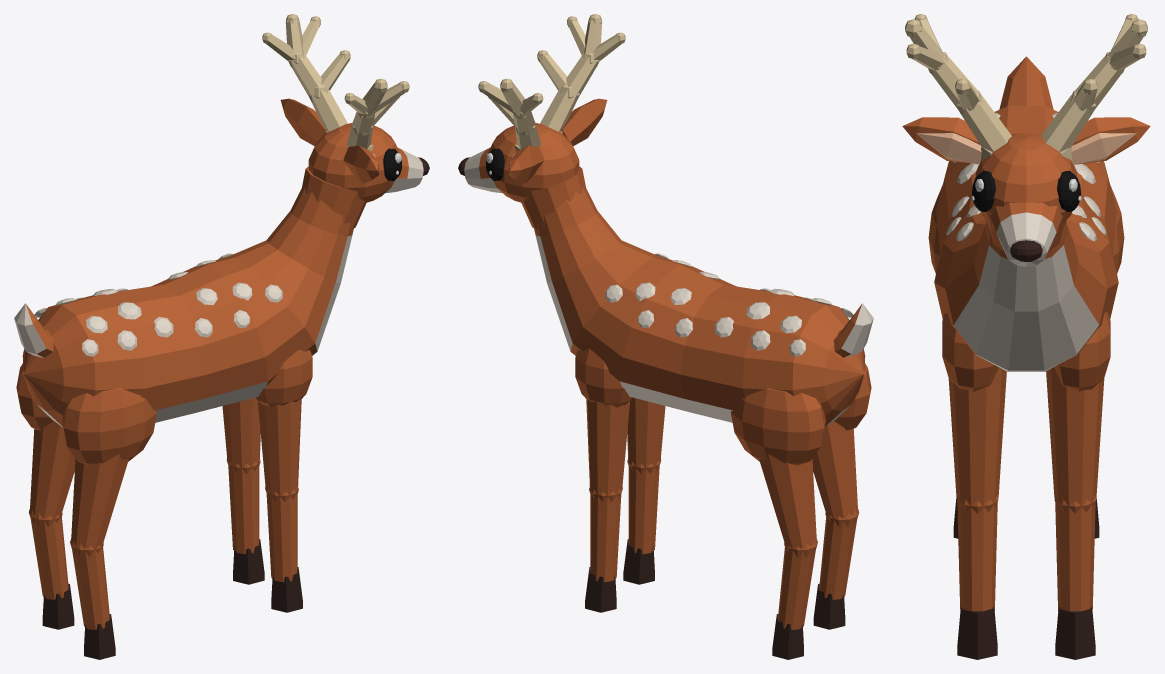
The model's file is deer.glb.
3 views of the same model, side by side, from view 1: azimuth 30°, elevation 25°; view 2: azimuth 150°, elevation 25°; view 3: azimuth 270°, elevation 25° (orthographic). The views are drawn at different scales.
Parts seen in each view (by area): view 1: body, head, leg_br, leg_fr, leg_bl, leg_fl, tail; view 2: body, head, leg_bl, leg_fl, leg_br, leg_fr, tail; view 3: body, head, leg_fl, leg_fr, tail, leg_bl, leg_br.
Part boxes in pixels (x1,y1,x2,y2): body: (22,187,353,427); head: (262,14,429,229); leg_br: (62,388,156,659); leg_fr: (256,349,312,612); leg_bl: (16,363,75,629); leg_fl: (222,397,264,584); tail: (14,303,54,357); body: (534,187,865,427); head: (458,14,625,229); leg_bl: (731,388,825,659); leg_fl: (575,348,631,612); leg_br: (812,363,871,629); leg_fr: (623,397,665,584); tail: (833,303,873,357); body: (934,106,1118,371); head: (902,14,1150,266); leg_fl: (1046,312,1110,659); leg_fr: (942,313,1006,659); tail: (999,56,1053,109); leg_bl: (1094,185,1124,538); leg_br: (928,185,958,538).
Size of the model in its own units: 1.61 by 1.98 by 0.66.
